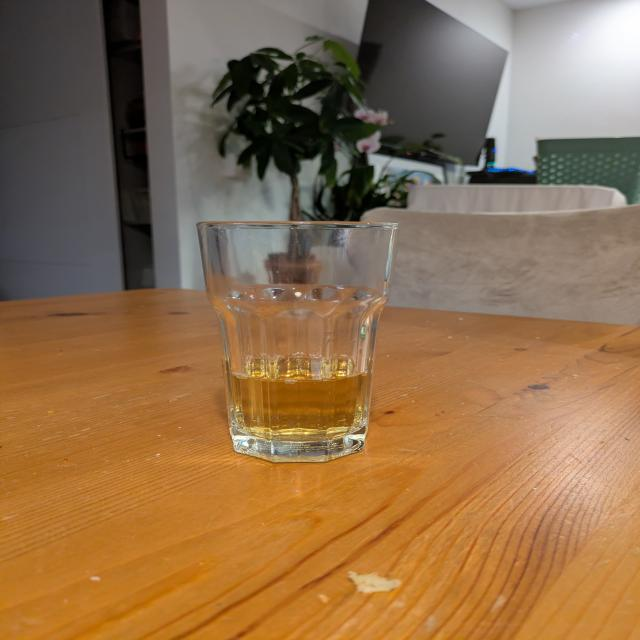filled g1: (198, 218, 398, 465)
liquid: (222, 350, 375, 440)
